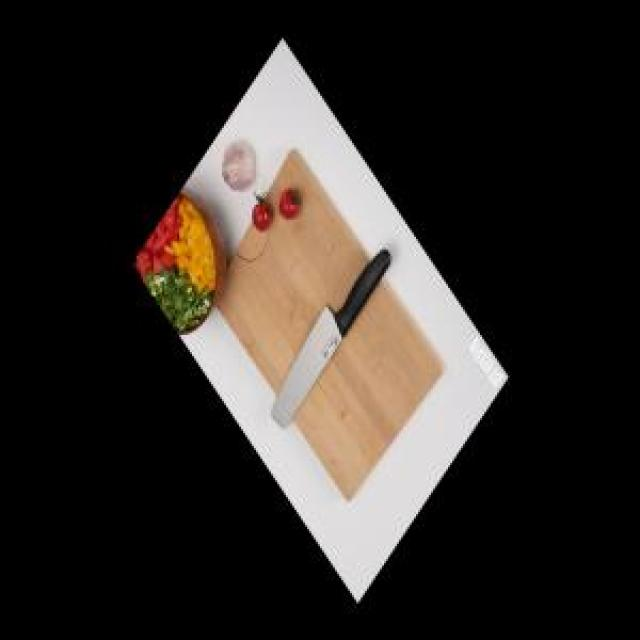knife: (268, 243, 394, 434)
